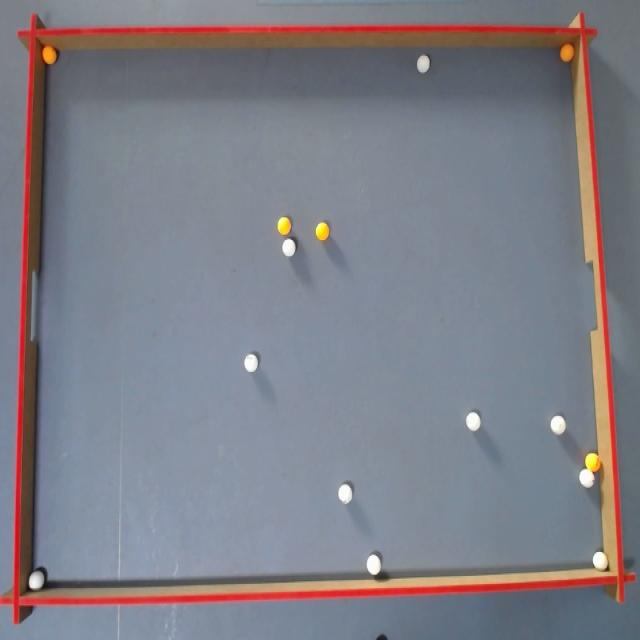orange_ball: (585, 452, 600, 472), (42, 46, 57, 64), (560, 44, 574, 62), (315, 222, 329, 240), (278, 217, 290, 234)
white_ball: (28, 569, 45, 591), (550, 415, 566, 435), (466, 411, 481, 431), (593, 551, 608, 571), (367, 554, 381, 575), (579, 469, 594, 488), (338, 484, 352, 504), (244, 353, 258, 372), (282, 238, 296, 256), (416, 54, 429, 73)
